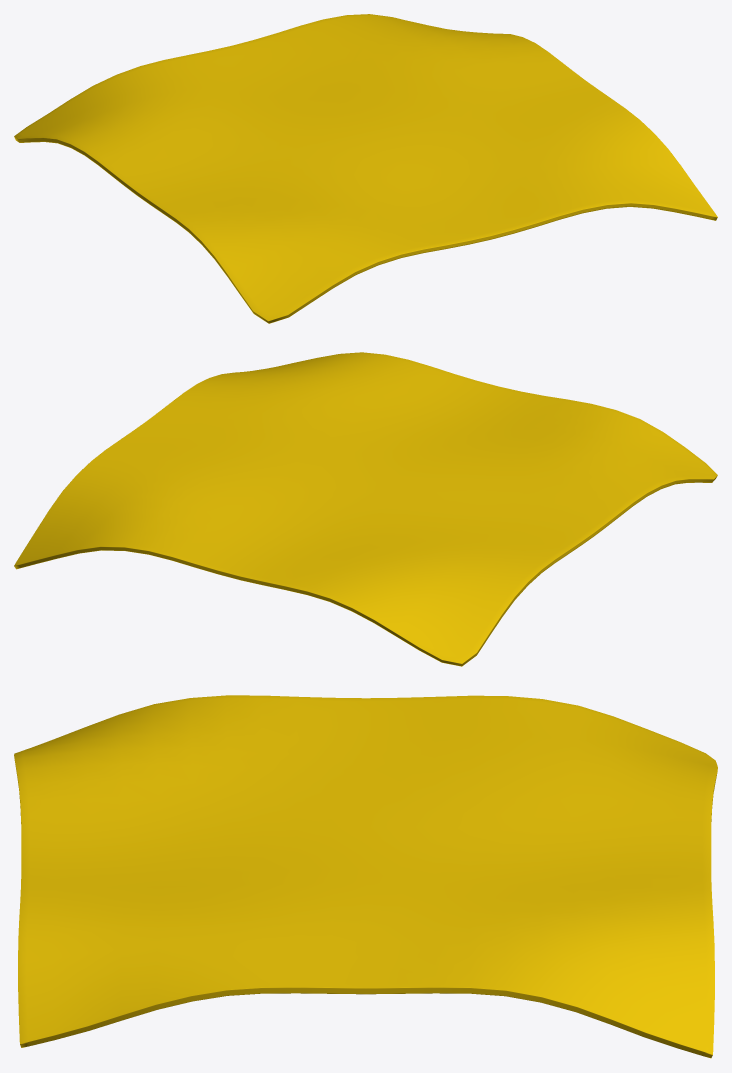
The model's file is Cheese.fbx.
3 views of the same model, one above another, from view 1: azimuth 30°, elevation 25°; view 2: azimuth 150°, elevation 25°; view 3: azimuth 270°, elevation 25° (orthographic). The views are drawn at different scales.
Parts seen in each view (by area): view 1: pPlane2; view 2: pPlane2; view 3: pPlane2.
Boxes of the visible parts, x1=… form: pPlane2: x1=14, y1=14, x2=717, y2=323; pPlane2: x1=14, y1=352, x2=717, y2=666; pPlane2: x1=14, y1=695, x2=717, y2=1058.
Bounding box in the file's own units: 3.65 × 0.437 × 3.67.
